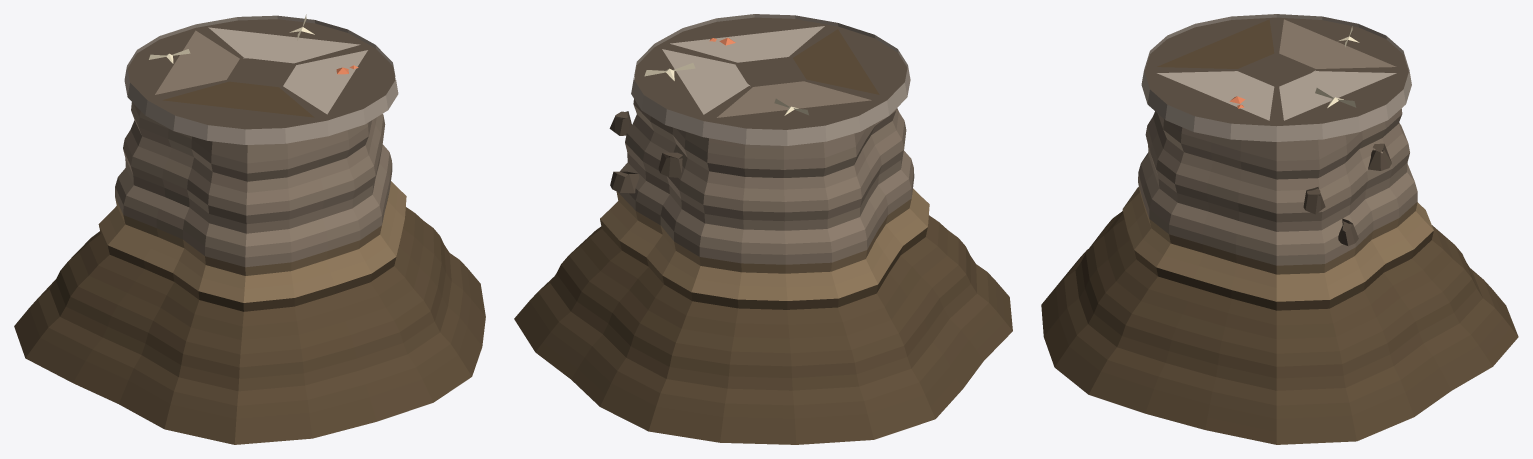
Rendered from SeaStackTall.fbx.
3 views of the same model, side by side, from view 1: azimuth 30°, elevation 25°; view 2: azimuth 150°, elevation 25°; view 3: azimuth 270°, elevation 25° (orthographic).
Parts seen in each view (by area): view 1: SeaStackTall; view 2: SeaStackTall; view 3: SeaStackTall.
Boxes of the visible parts, x1=… form: SeaStackTall: x1=14, y1=14, x2=485, y2=444; SeaStackTall: x1=514, y1=14, x2=1012, y2=444; SeaStackTall: x1=1041, y1=14, x2=1518, y2=444.
Size of the model in its own units: 1488 by 934 by 1458.
